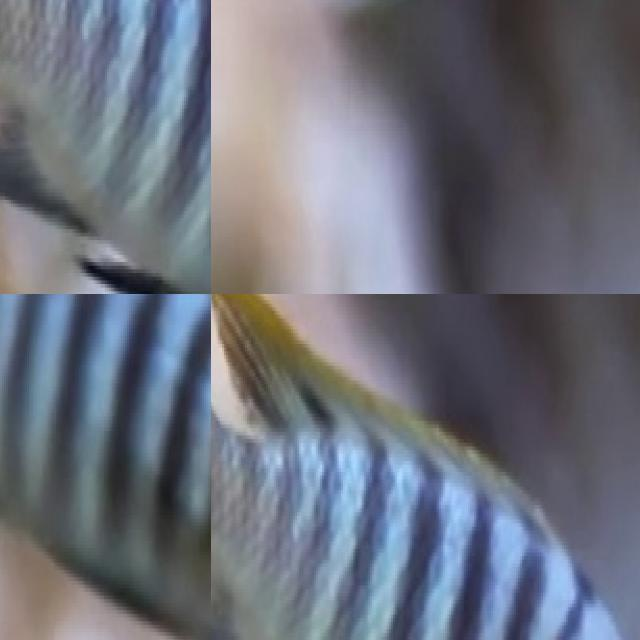fish: (0, 294, 211, 640), (0, 0, 211, 294)
